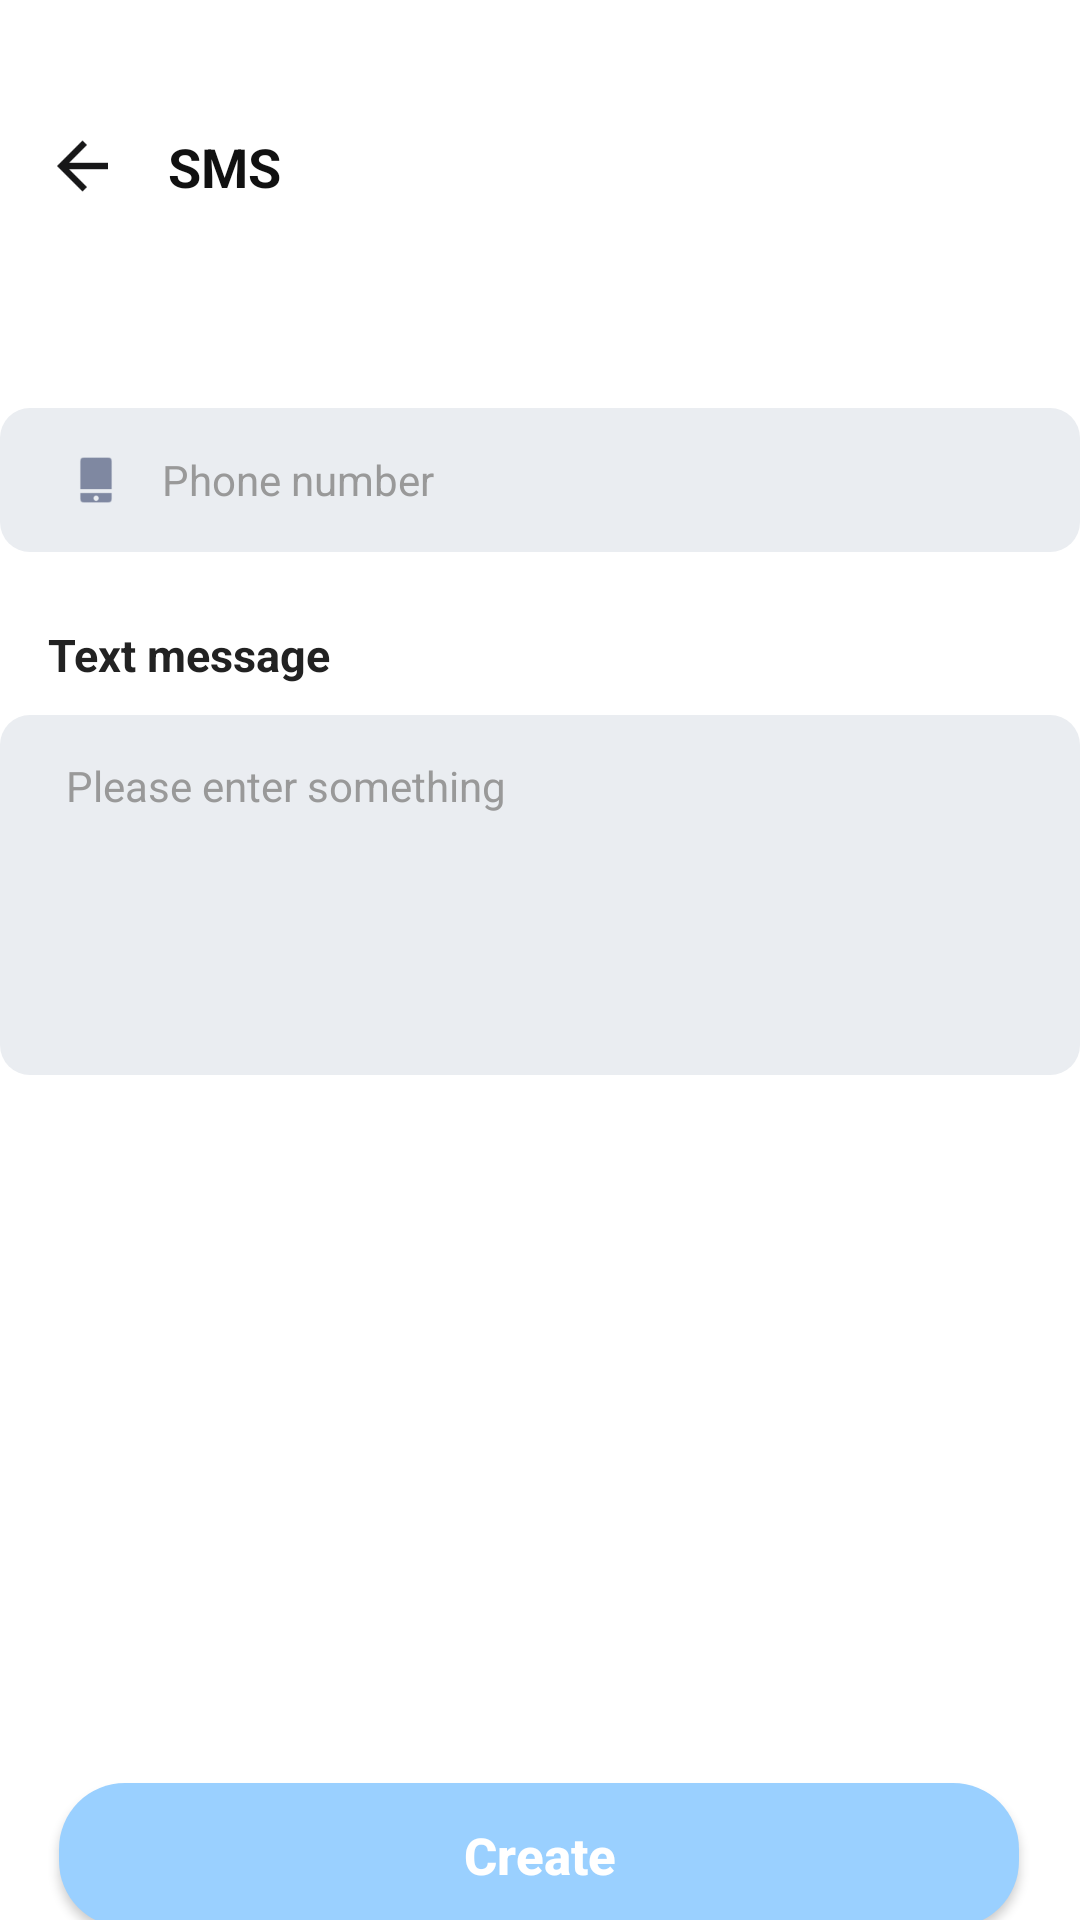

Screen size 1080*1920. Icon name, then its center in pixels as (x,y):
create phone: (96,480)
results page return: (82,166)
